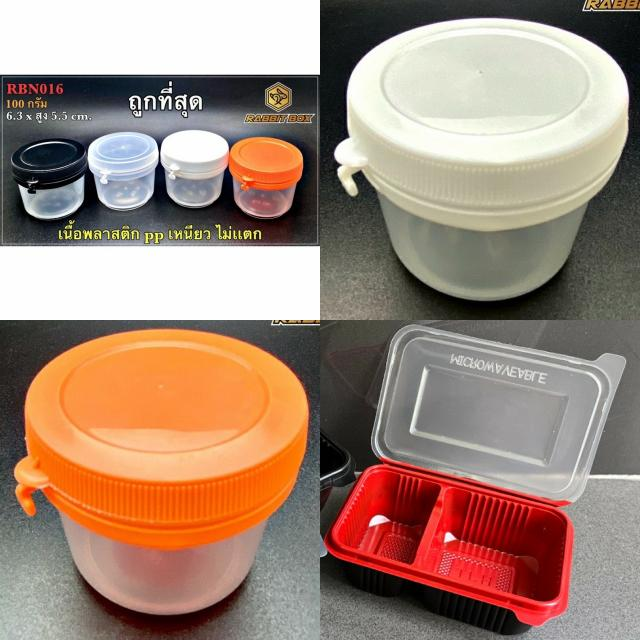Single-Use-Plastic: (325, 325, 624, 633), (14, 329, 309, 615), (335, 19, 629, 301), (11, 139, 88, 220), (229, 138, 302, 219), (88, 132, 159, 209), (160, 130, 229, 208)
